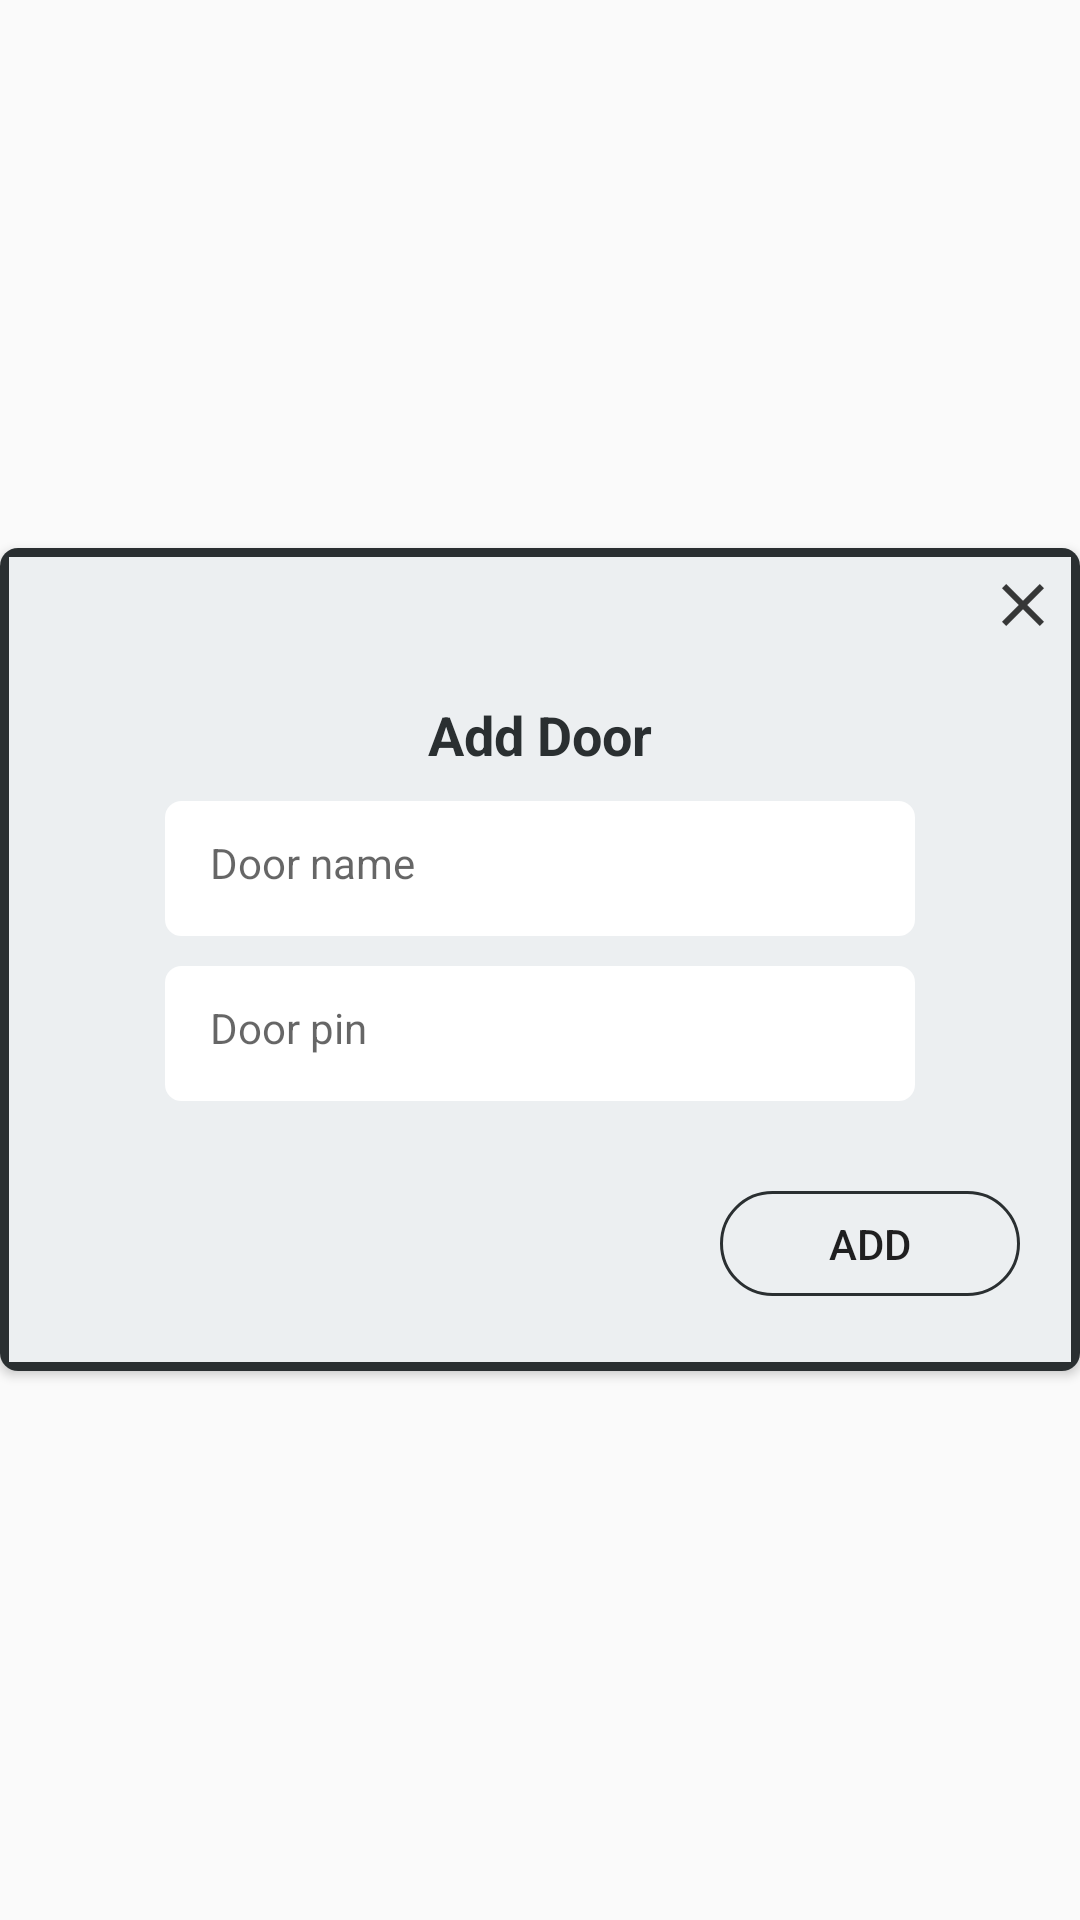

Icon click points for this 1080 x 1920 phone screenshot, format (x=x, y=y):
close: (x=1023, y=605)
